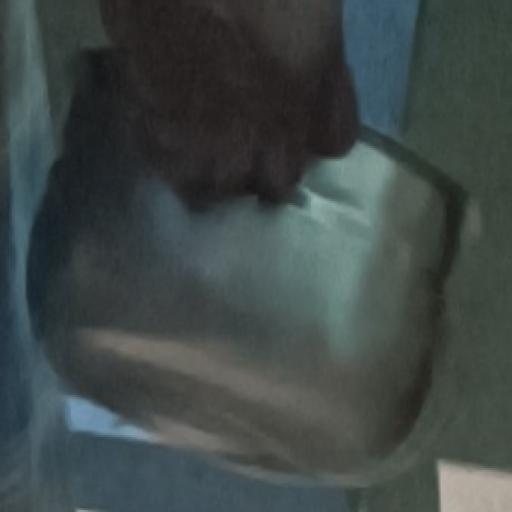vessel: (27, 49, 464, 481)
